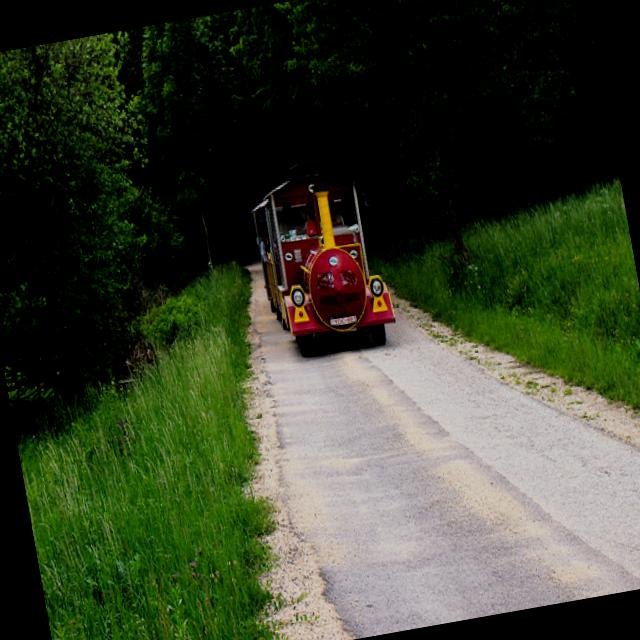Vehicle: (244, 150, 400, 362)
